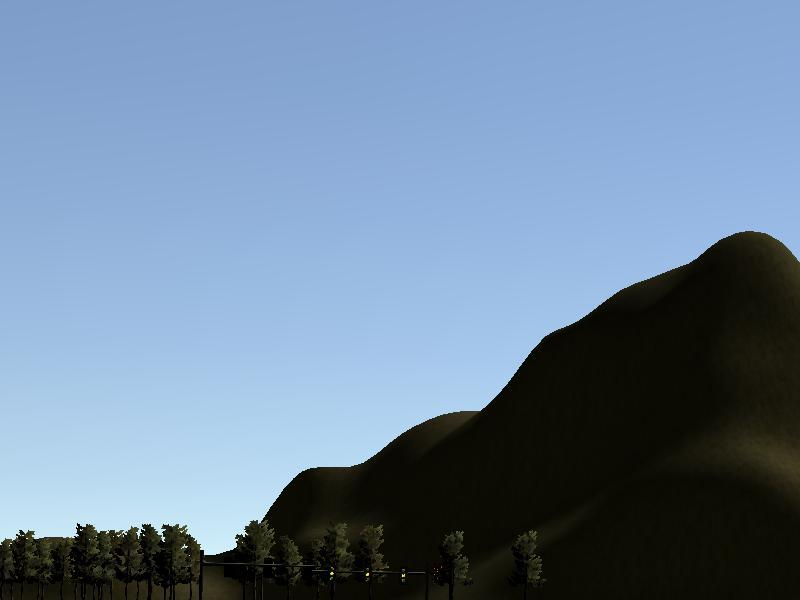Yellow: (398, 566, 409, 587), (363, 565, 373, 585), (328, 563, 335, 584)
